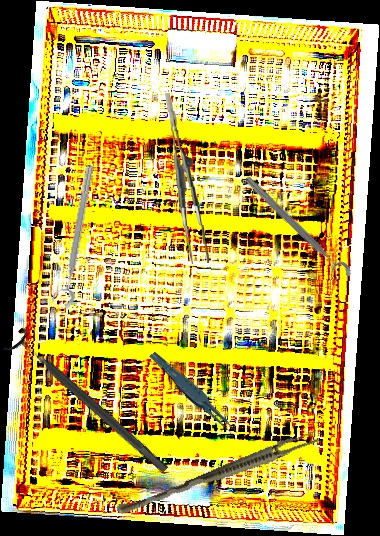Fixation Ring: (2, 325, 176, 483), (236, 172, 355, 289), (49, 162, 98, 310)
Tissue Forceps: (115, 425, 321, 523), (148, 345, 239, 443), (164, 91, 210, 265)
